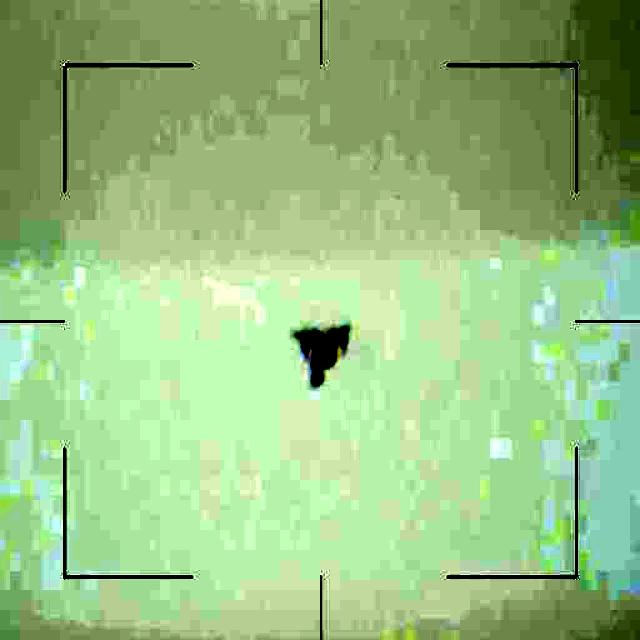bird: (291, 320, 364, 394)
